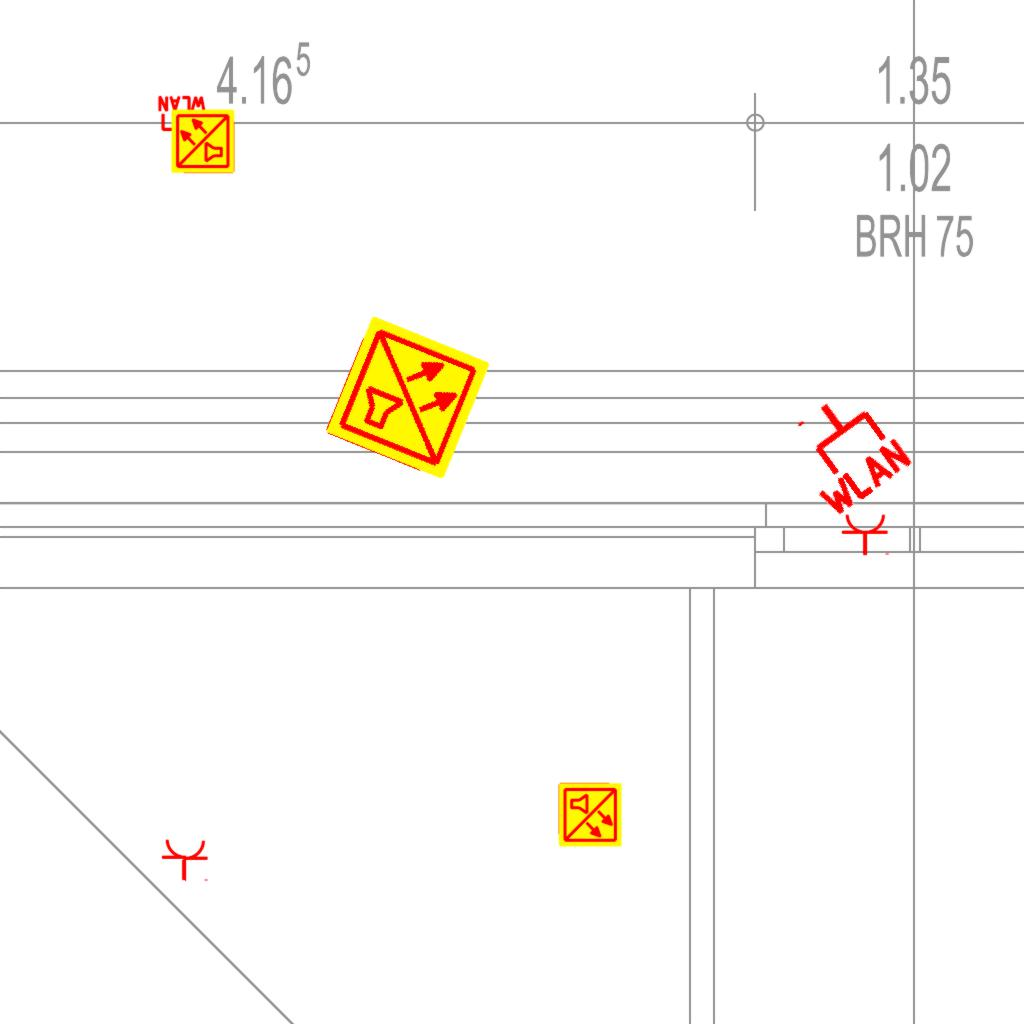OKW_Multisensormelder_(Kombination_optischer_Rauch-Kahlenmonoxid_Waerme-Melder): (322, 312, 494, 484), (557, 782, 623, 848), (170, 108, 236, 174)
Schukosteckdose_einfach: (159, 837, 212, 883), (841, 513, 891, 556)
WLAN: (771, 376, 918, 524), (156, 95, 208, 147)
